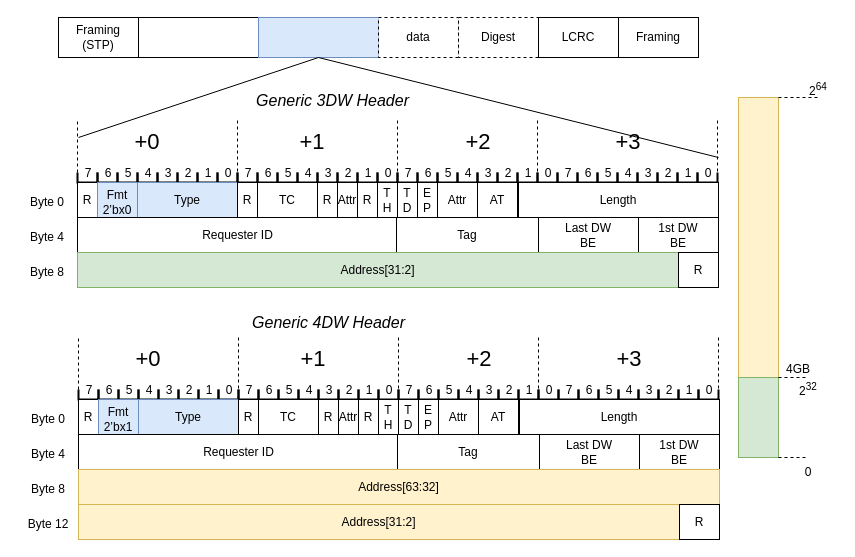
Some shapes in this 855 by 557 pixel diagram are drawn without their labels. The box of each missing label's shape, as (x1, y1, x2, y2) in pixels:
Header: (258, 16, 378, 58)
Sequence Number: (138, 16, 258, 58)
